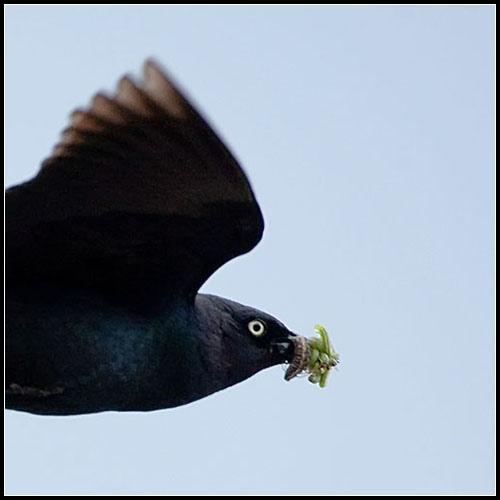009.Brewer_Blackbird: (4, 58, 305, 418)
